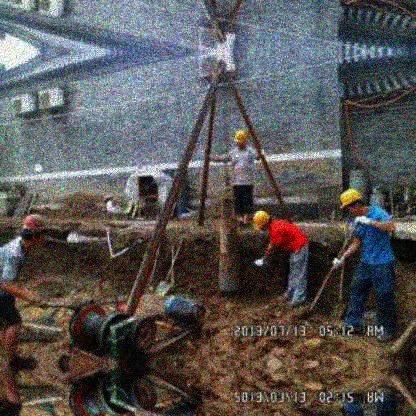helmet: (22, 213, 48, 249), (339, 187, 365, 215), (250, 211, 271, 231), (234, 128, 246, 149)
